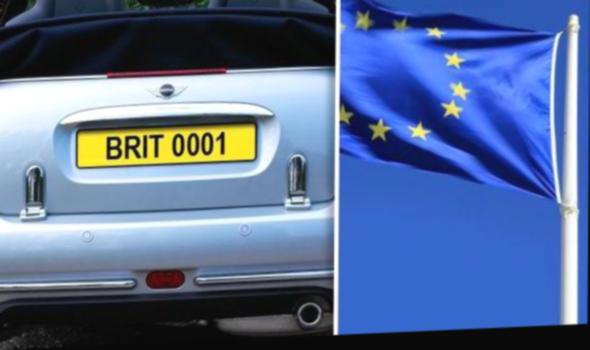License_Plate: (95, 127, 232, 165)
